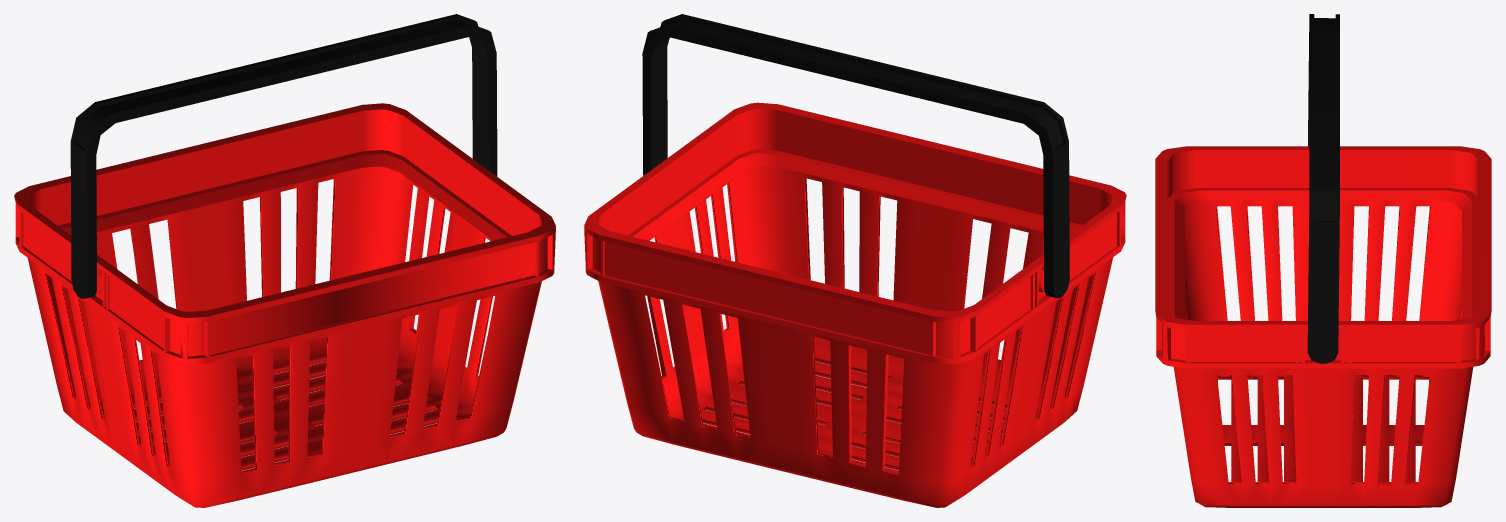
File: Shopping Basket.fbx
The picture shows the model from 3 angles, left to right: view 1: azimuth 30°, elevation 25°; view 2: azimuth 150°, elevation 25°; view 3: azimuth 270°, elevation 25°; orthographic projection. The views are drawn at different scales.
Parts seen in each view (by area): view 1: Node 0, Node 1; view 2: Node 0, Node 1; view 3: Node 0, Node 1.
Boxes of the visible parts, x1=… form: Node 0: x1=14, y1=103, x2=555, y2=507; Node 1: x1=70, y1=14, x2=497, y2=298; Node 0: x1=584, y1=102, x2=1126, y2=507; Node 1: x1=642, y1=14, x2=1069, y2=297; Node 0: x1=1155, y1=146, x2=1491, y2=507; Node 1: x1=1307, y1=14, x2=1339, y2=363.
Size of the model in its own units: 0.3384 by 0.3792 by 0.4491.
